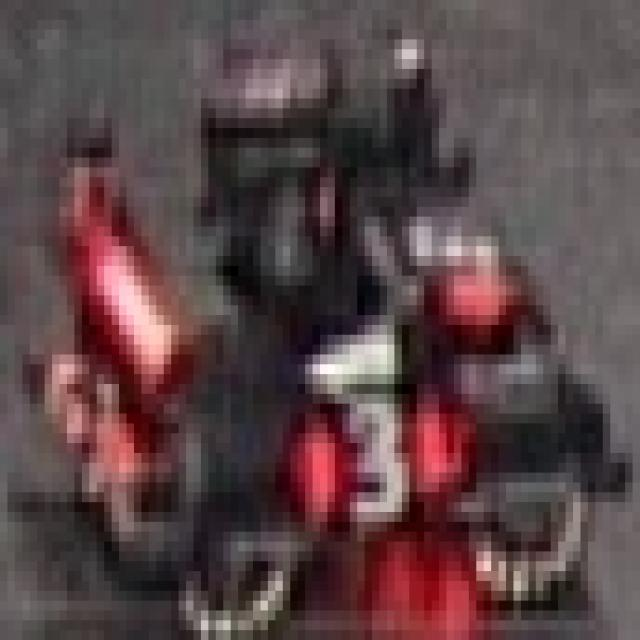R3: (276, 379, 462, 527), (37, 359, 142, 527), (387, 187, 506, 315)
